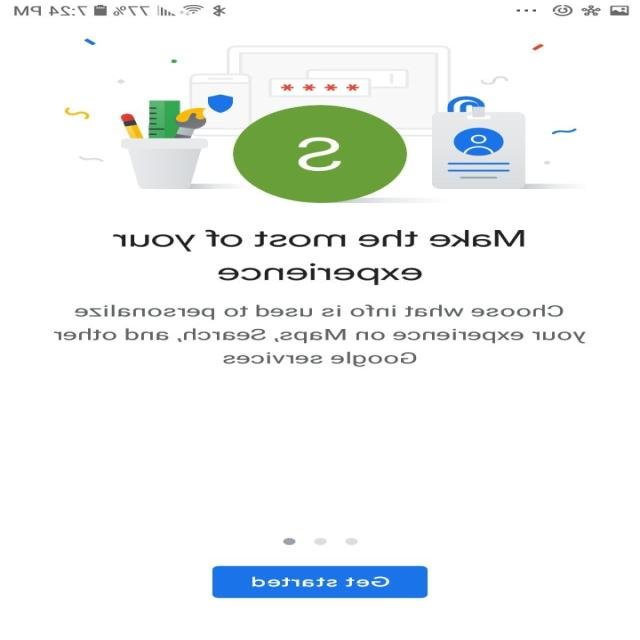Image: (65, 38, 578, 204)
Text: (54, 303, 587, 367), (112, 229, 526, 252), (218, 263, 423, 285)
TextButton: (212, 566, 428, 598)
